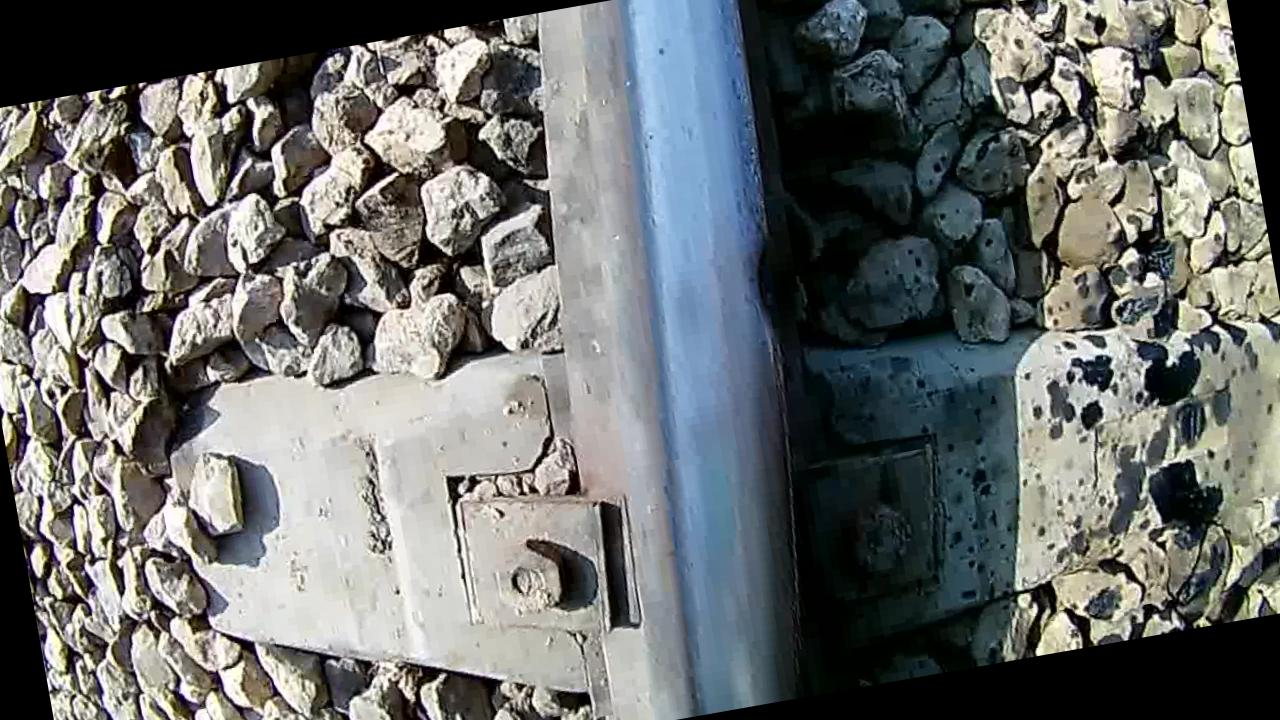crack: (719, 208, 798, 369)
